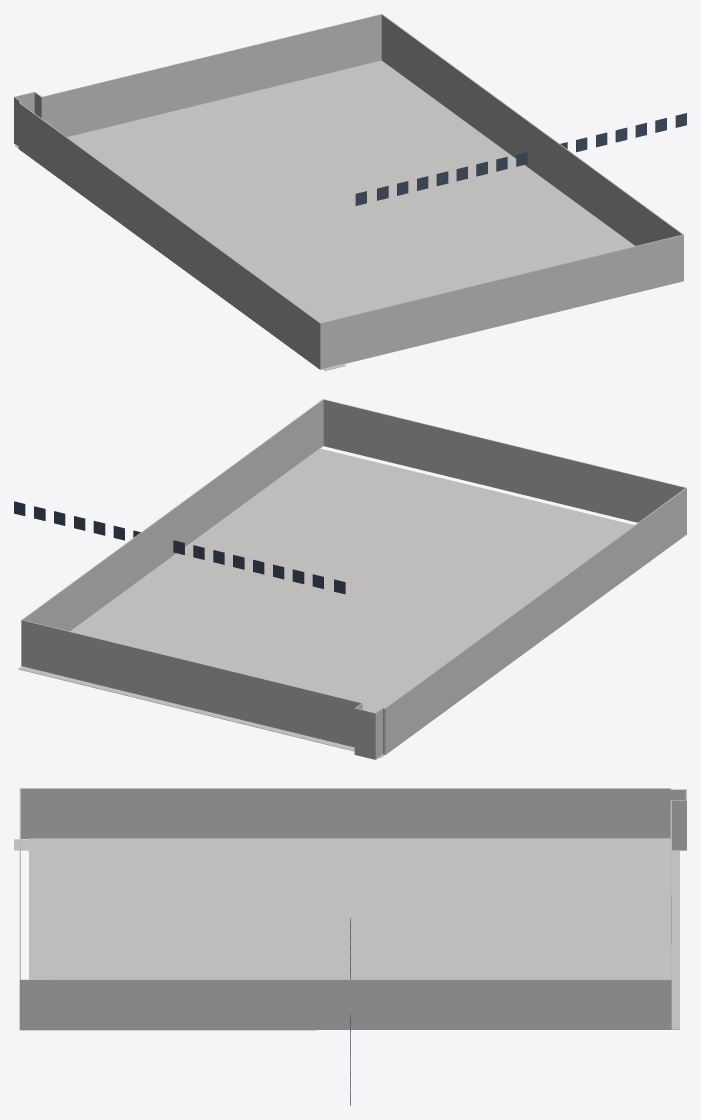
The picture shows the model from 3 angles, top to bottom: view 1: azimuth 30°, elevation 25°; view 2: azimuth 150°, elevation 25°; view 3: azimuth 270°, elevation 25°; orthographic projection. The views are drawn at different scales.
Parts seen in each view (by area): view 1: slab_slab_m68fyvrhh4v71n0y, wall_wall_iibqeawv20zp3x6h, wall_wall_021bvb2aia745hya, wall_wall_0g31i6zmxkwmgtcc, wall_wall_ec6knqbl8h1laloa; view 2: slab_slab_m68fyvrhh4v71n0y, wall_wall_iibqeawv20zp3x6h, wall_wall_021bvb2aia745hya, wall_wall_0g31i6zmxkwmgtcc, wall_wall_ec6knqbl8h1laloa, wall_wall_29oawnbb2p7tj9pm; view 3: slab_slab_m68fyvrhh4v71n0y, wall_wall_ec6knqbl8h1laloa, wall_wall_0g31i6zmxkwmgtcc, wall_wall_hapzyfpa51xp6e3y.
Part boxes in pixels (x1,y1,x2,y2): slab_slab_m68fyvrhh4v71n0y: (15, 60, 634, 370); wall_wall_iibqeawv20zp3x6h: (320, 234, 683, 369); wall_wall_021bvb2aia745hya: (41, 14, 381, 136); wall_wall_0g31i6zmxkwmgtcc: (18, 102, 320, 369); wall_wall_ec6knqbl8h1laloa: (381, 14, 683, 280); slab_slab_m68fyvrhh4v71n0y: (18, 448, 634, 757); wall_wall_iibqeawv20zp3x6h: (323, 399, 686, 522); wall_wall_021bvb2aia745hya: (21, 620, 361, 747); wall_wall_0g31i6zmxkwmgtcc: (385, 488, 686, 754); wall_wall_ec6knqbl8h1laloa: (21, 399, 323, 665); wall_wall_29oawnbb2p7tj9pm: (355, 708, 375, 759); slab_slab_m68fyvrhh4v71n0y: (14, 838, 679, 1029); wall_wall_ec6knqbl8h1laloa: (20, 979, 670, 1030); wall_wall_0g31i6zmxkwmgtcc: (20, 788, 670, 838); wall_wall_hapzyfpa51xp6e3y: (671, 800, 686, 850).
Size of the model in its own units: 146 by 12.5 by 152.
